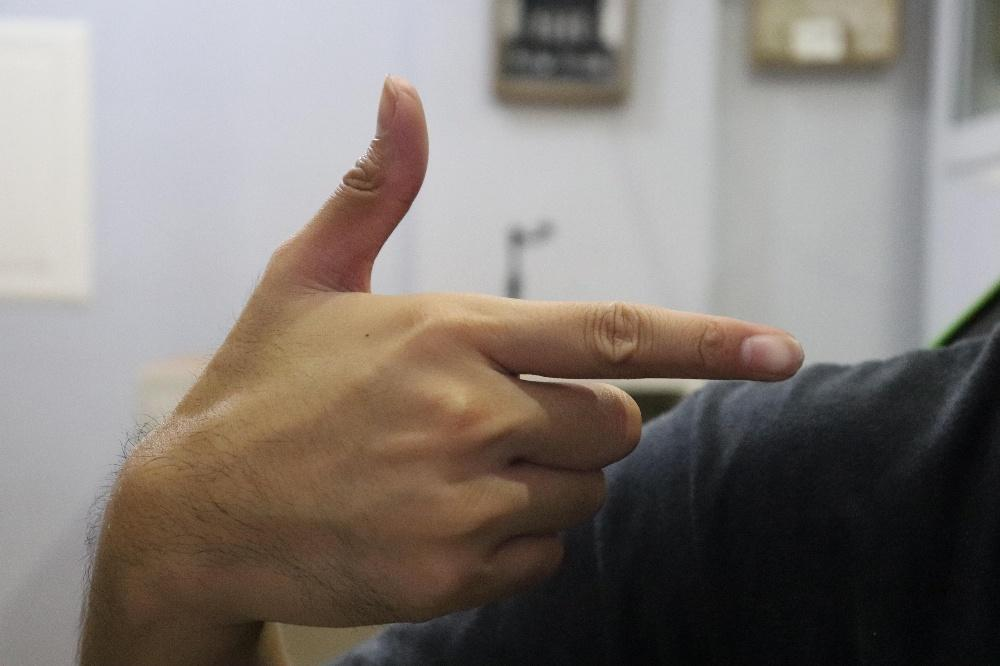g: (119, 74, 803, 630)
